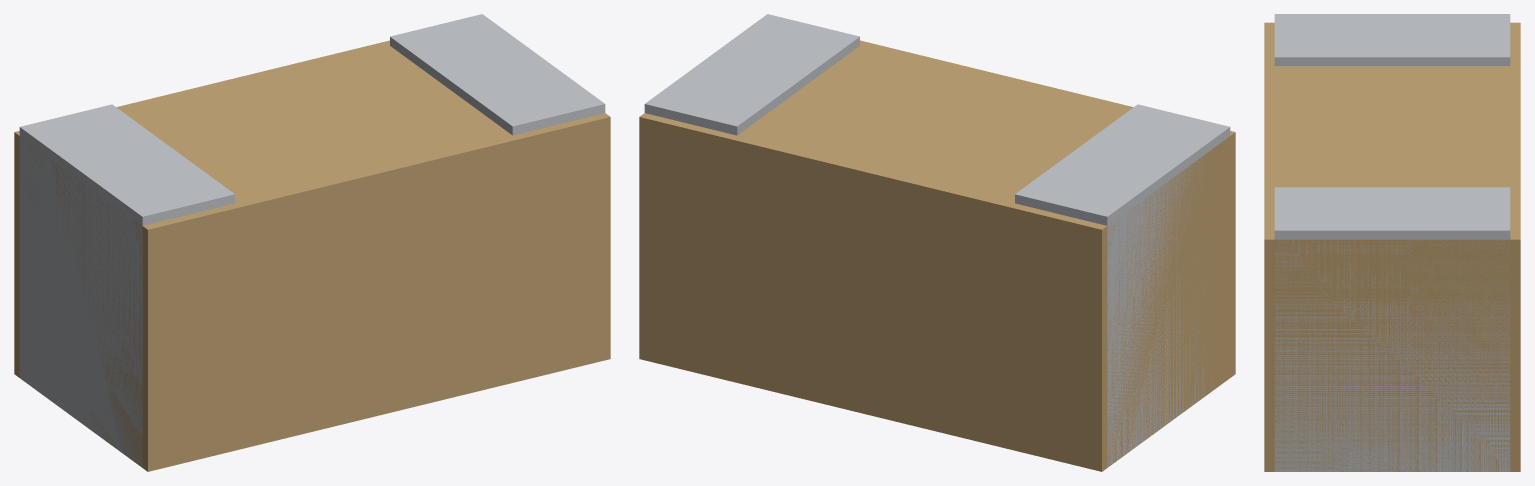
Rendered from capacitor-0603.source.glb.
3 views of the same model, side by side, from view 1: azimuth 30°, elevation 25°; view 2: azimuth 150°, elevation 25°; view 3: azimuth 270°, elevation 25° (orthographic). The views are drawn at different scales.
Parts seen in each view (by area): view 1: body, lead-1, lead-2; view 2: body, lead-1, lead-2; view 3: body, lead-2, lead-1.
Part boxes in pixels (left/top/right/bottom): body: left=14, top=40, right=610, bottom=471; lead-1: left=19, top=104, right=234, bottom=467; lead-2: left=390, top=14, right=605, bottom=135; body: left=639, top=40, right=1235, bottom=471; lead-1: left=1015, top=104, right=1230, bottom=467; lead-2: left=644, top=14, right=859, bottom=135; body: left=1264, top=22, right=1520, bottom=471; lead-2: left=1274, top=187, right=1510, bottom=471; lead-1: left=1274, top=14, right=1510, bottom=65.
Size of the model in its own units: 0.0016 by 0.00083 by 0.0008.
